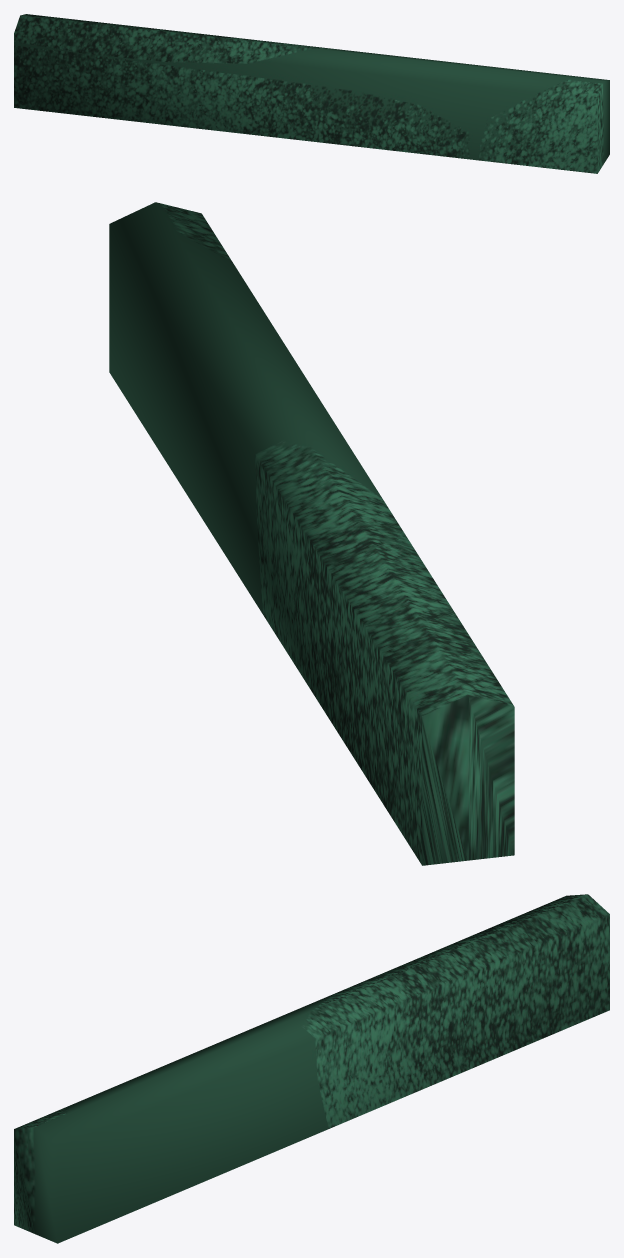
The model's file is Ring1W2.fbx.
The picture shows the model from 3 angles, top to bottom: view 1: azimuth 30°, elevation 25°; view 2: azimuth 150°, elevation 25°; view 3: azimuth 270°, elevation 25°; orthographic projection. The views are drawn at different scales.
Parts seen in each view (by area): view 1: Ring1W2; view 2: Ring1W2; view 3: Ring1W2.
Boxes of the visible parts, bbox=[...] form: Ring1W2: bbox=[14, 14, 609, 173]; Ring1W2: bbox=[109, 202, 514, 865]; Ring1W2: bbox=[14, 894, 609, 1243].
Bounding box in the file's own units: 2023 × 400 × 2023.
